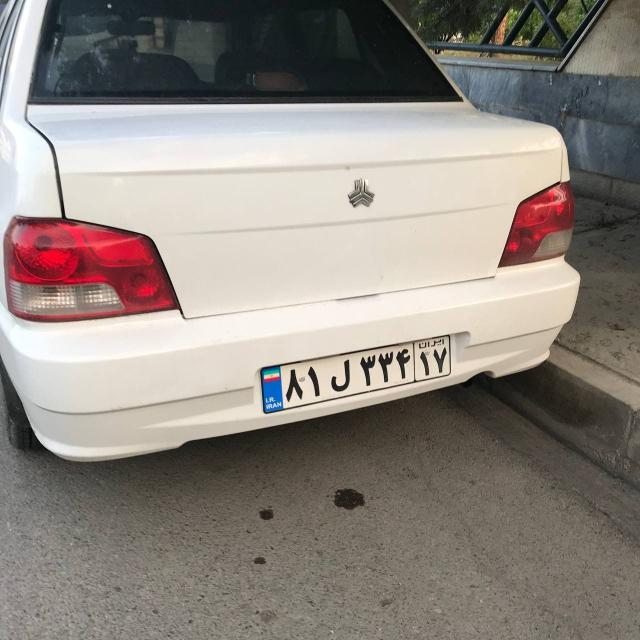Plates: (255, 328, 458, 415)
